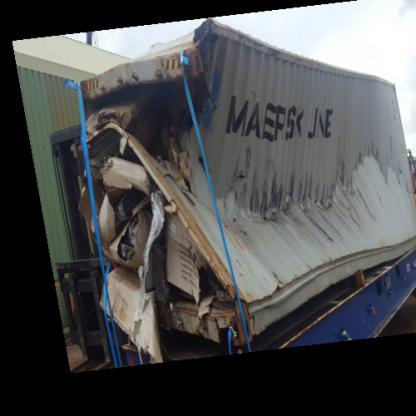Damage: (83, 34, 404, 366)
